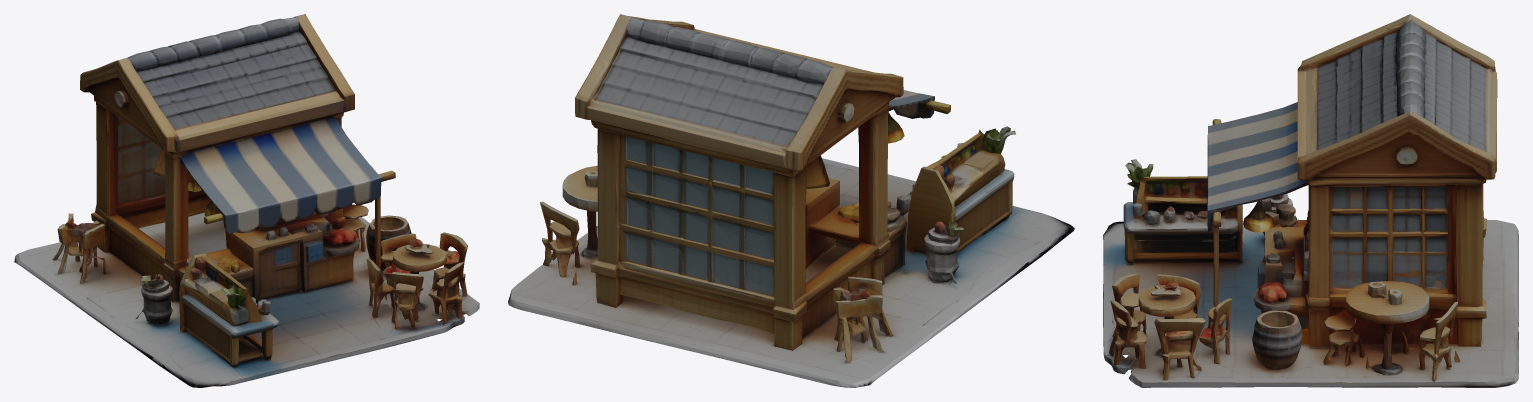
Rendered from small_cafe.glb.
3 renders of one model, left to right at view 1: azimuth 30°, elevation 25°; view 2: azimuth 150°, elevation 25°; view 3: azimuth 270°, elevation 25°, orthographic. The views are drawn at different scales.
Visible parts, largest first — view 1: world; view 2: world; view 3: world.
Boxes of the visible parts, bbox=[...] form: world: bbox=[14, 14, 479, 387]; world: bbox=[508, 14, 1074, 387]; world: bbox=[1103, 14, 1518, 387].
Size of the model in its own units: 0.9405 by 0.6489 by 1.
1 material, 1 textured.
